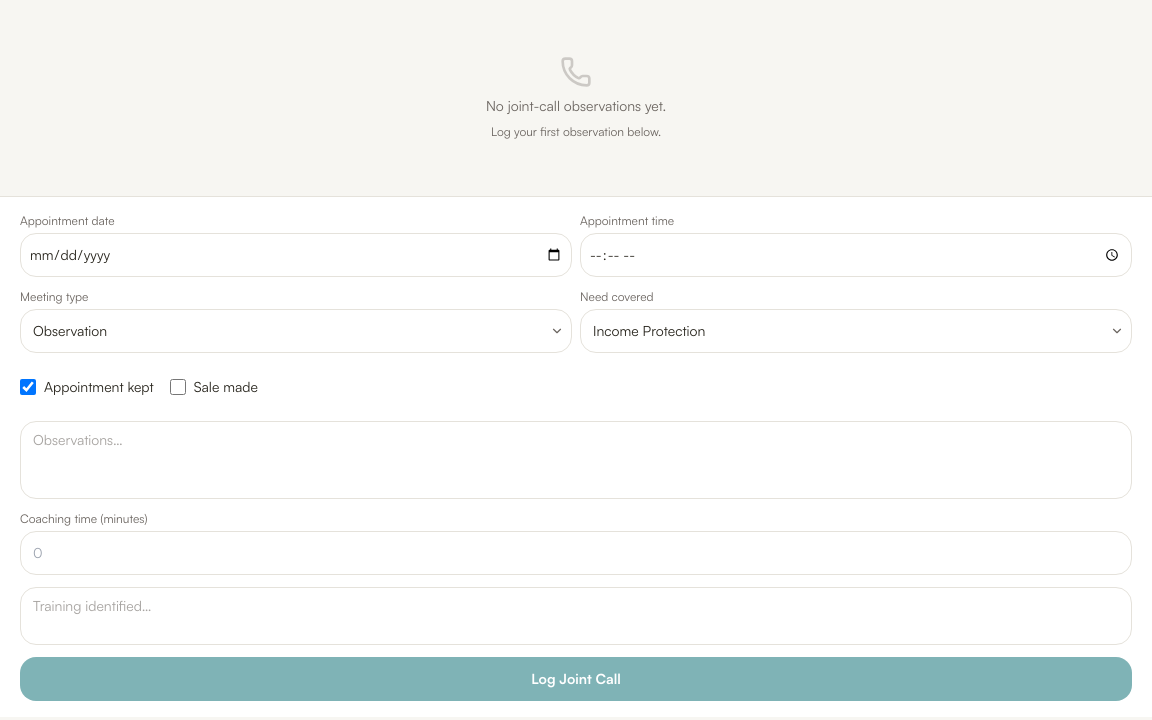
JointCallsTab — add call › reveals nextMeetingDate input when appointment NOT kept
The image size is (1152, 720).
Expected: the text "No joint-call observations yet." is shown, x1=486 y1=96 x2=666 y2=116
Expected: the field labelled "Next meeting date" is not shown
Note: Uncheck appointment kept
Click the checkbox labelled "Appointment kept". click: (28, 387)
box: x1=20 y1=379 x2=36 y2=395
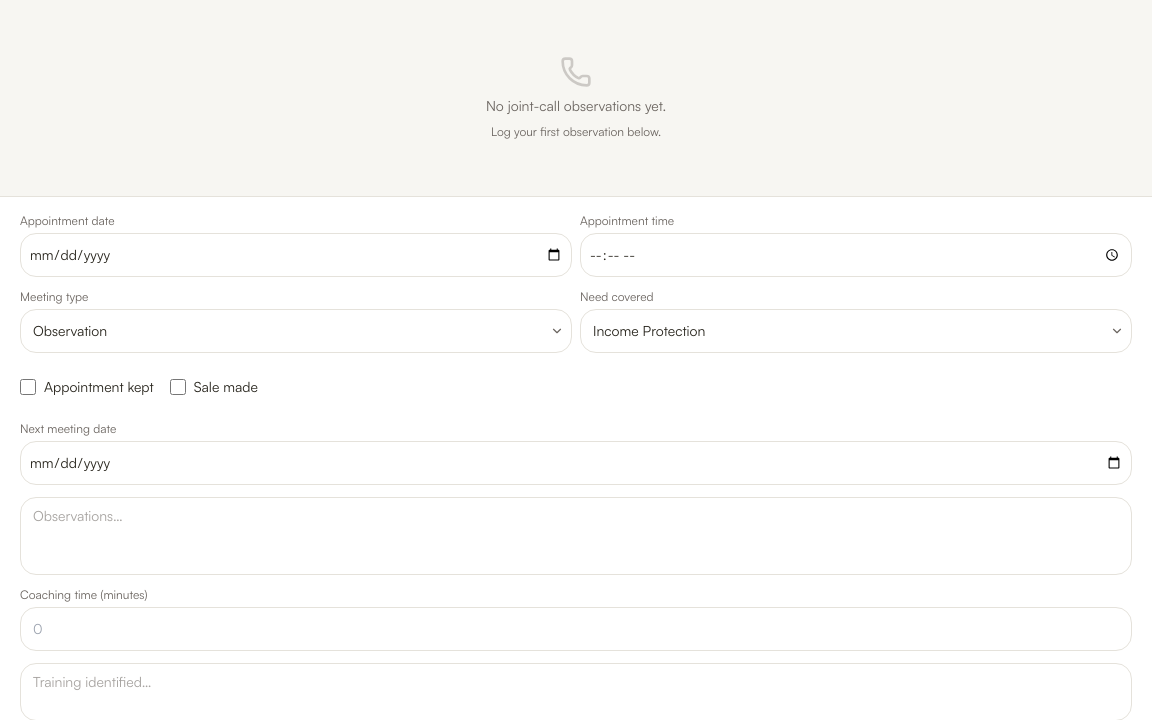
Result: the date field labelled "Next meeting date" is shown at x1=20 y1=441 x2=1132 y2=485
